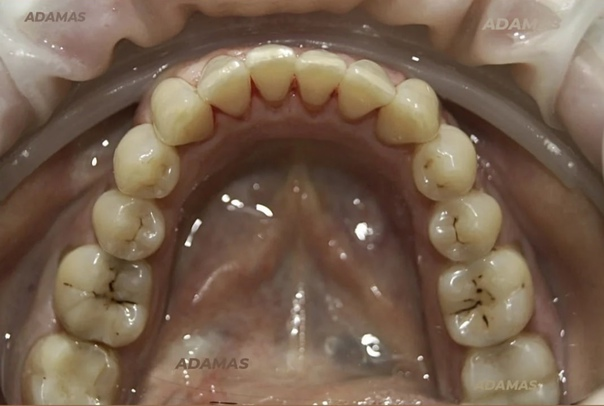UR1BC_decay: (417, 131, 475, 200)
UR1BC_healthy: (113, 127, 180, 198)
UR1M_decay: (55, 257, 153, 345), (444, 260, 532, 342)
UR2BC_decay: (427, 198, 506, 258), (95, 195, 166, 255)
UR2M_healthy: (25, 336, 117, 406)
URCI_healthy: (247, 44, 295, 111), (297, 48, 343, 107)
URC_healthy: (149, 79, 215, 144), (391, 81, 438, 142)
URLI_healthy: (199, 56, 250, 117), (342, 62, 392, 118)
